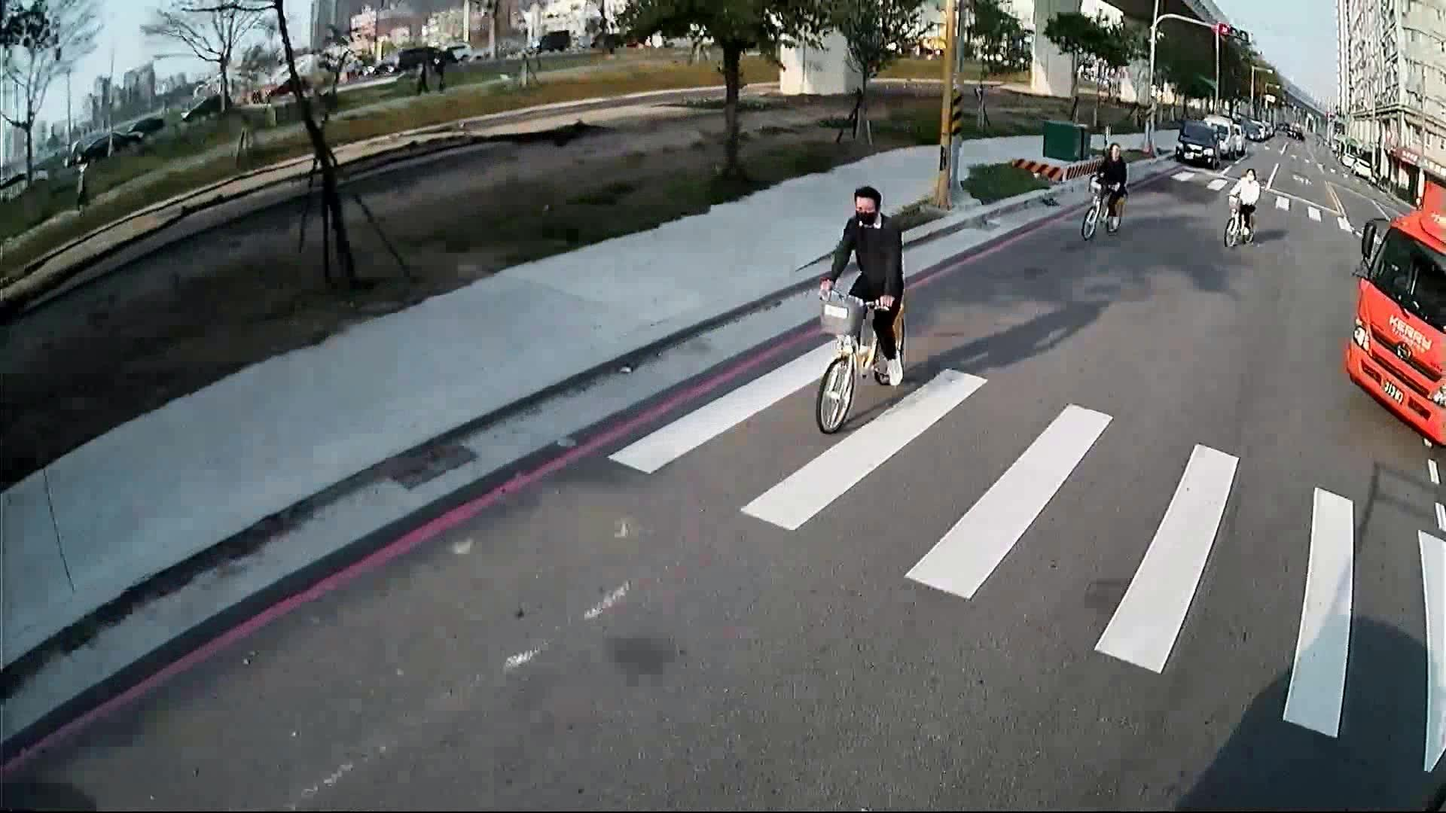person: (813, 182, 908, 386), (1090, 141, 1128, 232), (1224, 165, 1260, 236)
